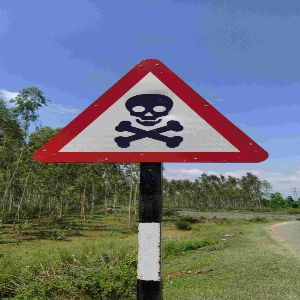Accident prone area: (27, 51, 276, 170)
